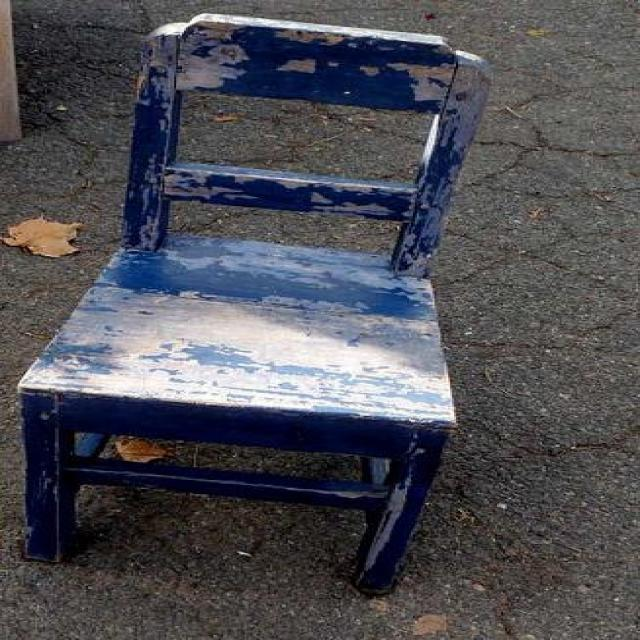chair: (14, 12, 493, 595)
